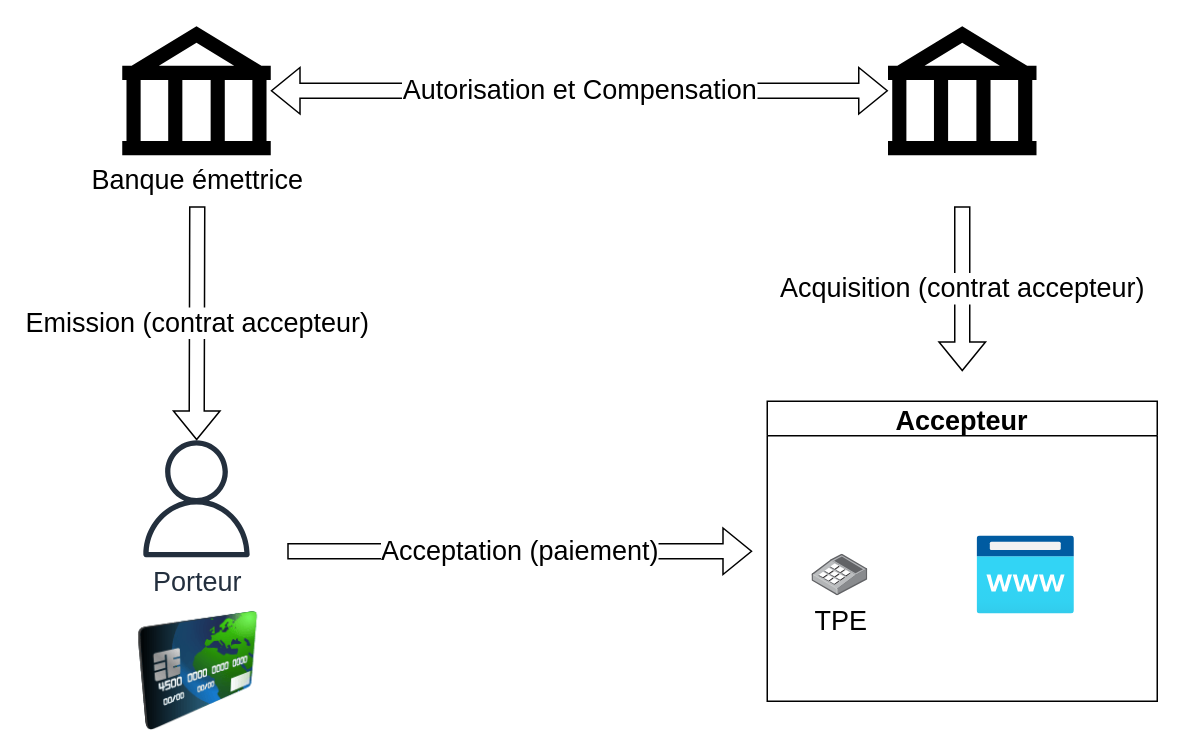
The diagram is 1185 pixels wide and 756 high, and some of its shapes have lost their labels. The shapes that lost their labels are listed below. From the top down, each one's centre as x and y in pixels, then its label:
At (961,90): "banque acquéreuse".
At (1025,575): "Paiement en ligne".
